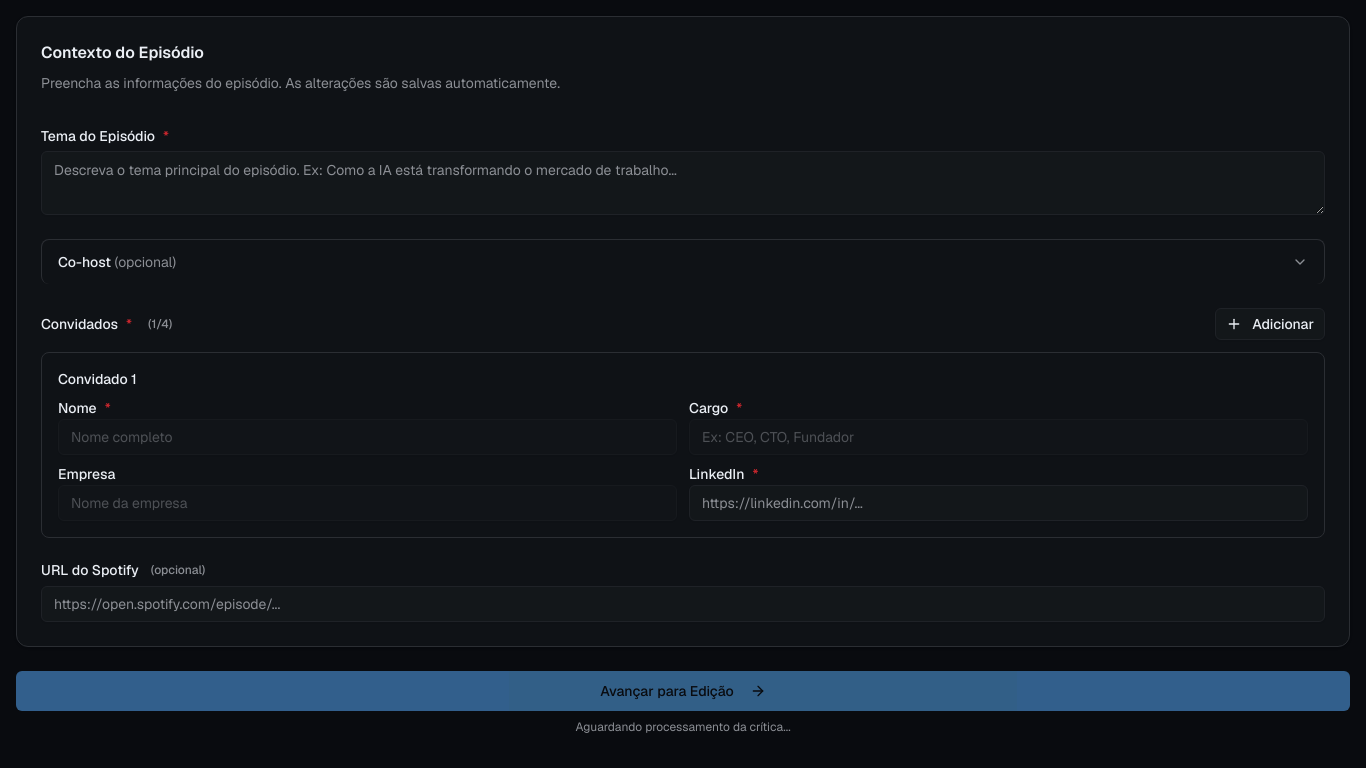
Scenario: Phase1Critique › Scrape-driven field unlock (Story 24.7) › opens fields empty for manual entry when scrape returns failedUrls
Replace the text in the text box labelled "Tema do Episódio *" with "tema qualquer". click: (683, 183)
box: [41, 151, 1325, 215]
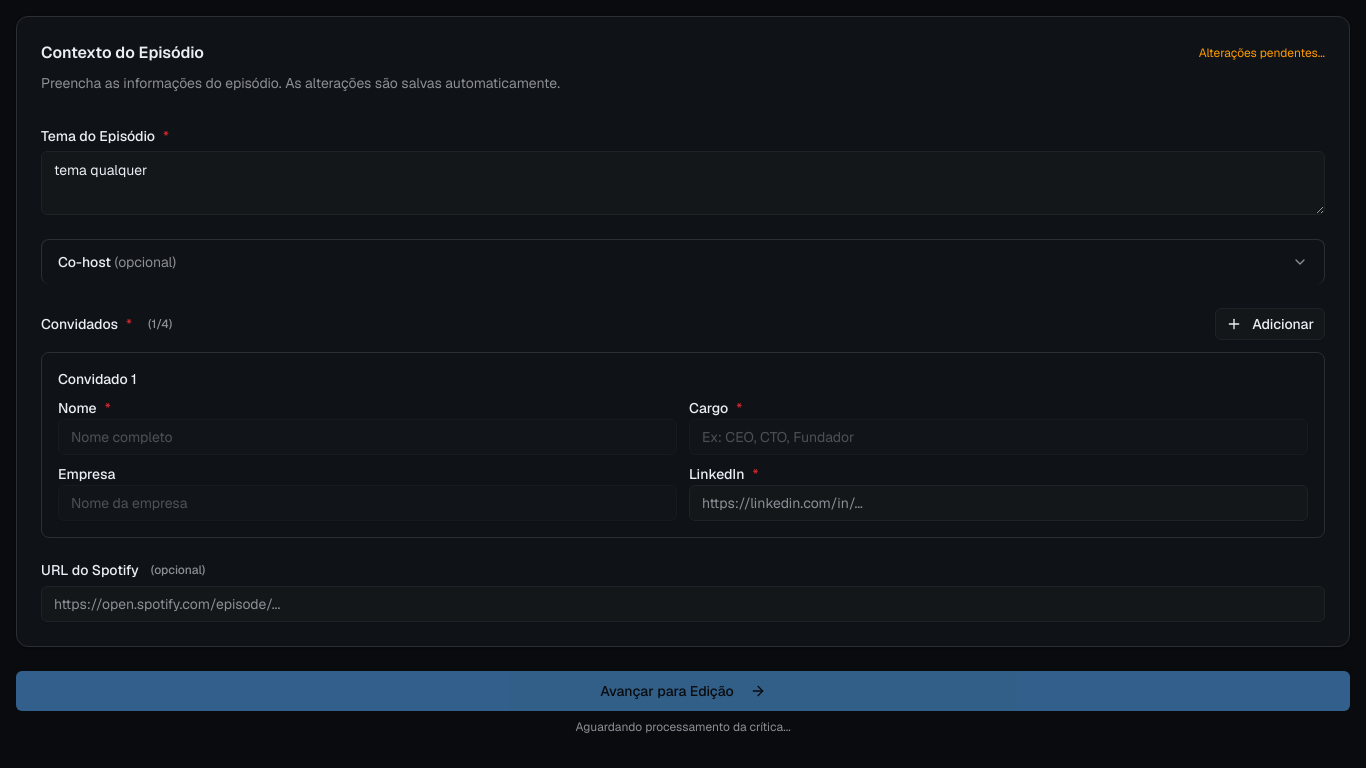
Type "https://www.linkedin.com/in/notfound" into the field labelled "LinkedIn *". click: (998, 503)
box: [689, 485, 1308, 521]
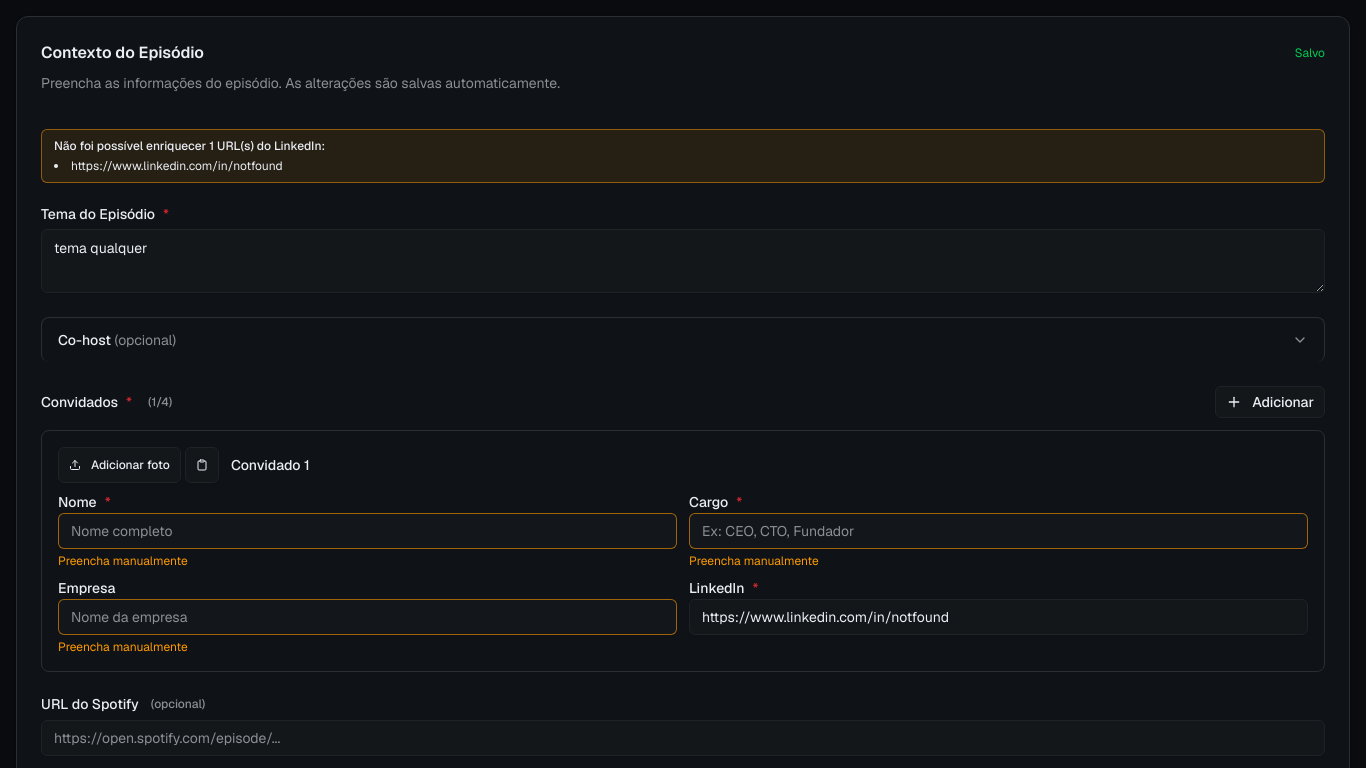
Expected: the field labelled "Nome *" is empty, [58, 513, 677, 549]
Result: the text "Não foi possível enriquecer 1 URL(s) do LinkedIn:" is shown at [54, 138, 325, 154]
Result: the field labelled "Nome *" is enabled at [58, 513, 677, 549]
